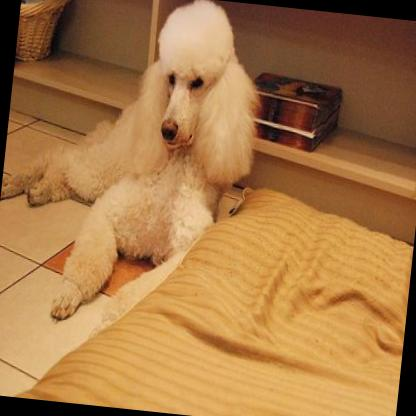standard_poodle: (0, 0, 273, 340)
